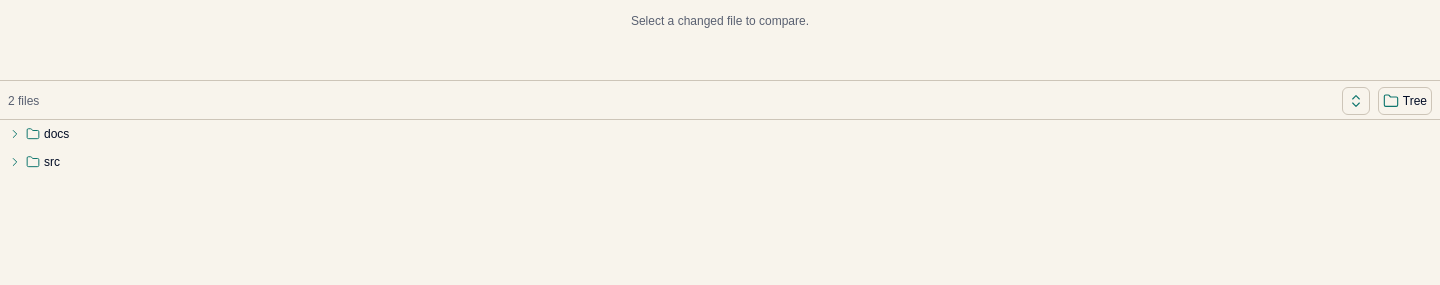
Test: expand all opens nested directories even when their ancestor is collapsed
The width and height of the screenshot is (1440, 285).
What coordinates should you click on to do the following:
click the button named "Expand all"
I would click on:
 (1356, 101)
Its box is x1=1342 y1=87 x2=1370 y2=115.
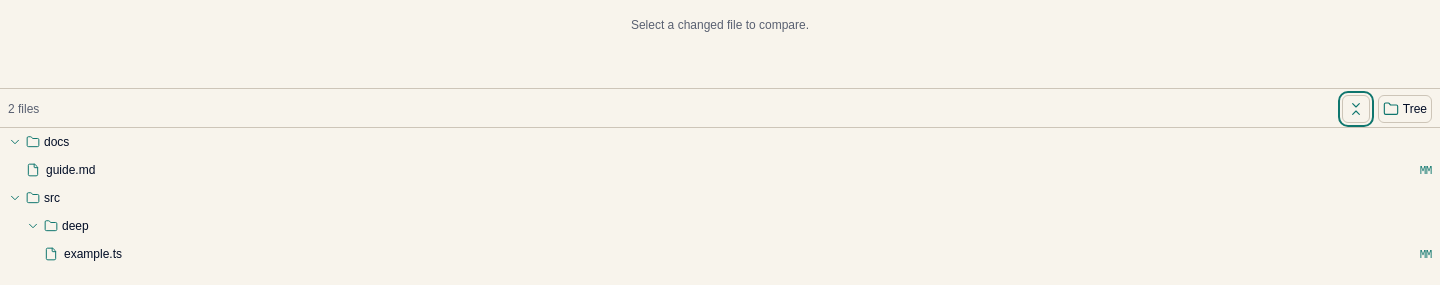
Check: the button with aria-label "Review src/deep/example.ts" is shown, box x1=40 y1=240 x2=1436 y2=268
Check: the button with aria-label "Review docs/guide.md" is shown, box x1=22 y1=156 x2=1436 y2=184
